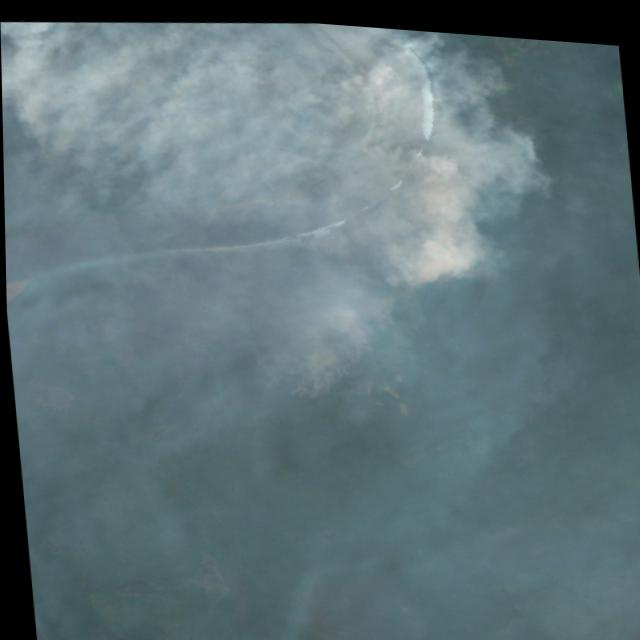fire: (233, 171, 459, 407)
